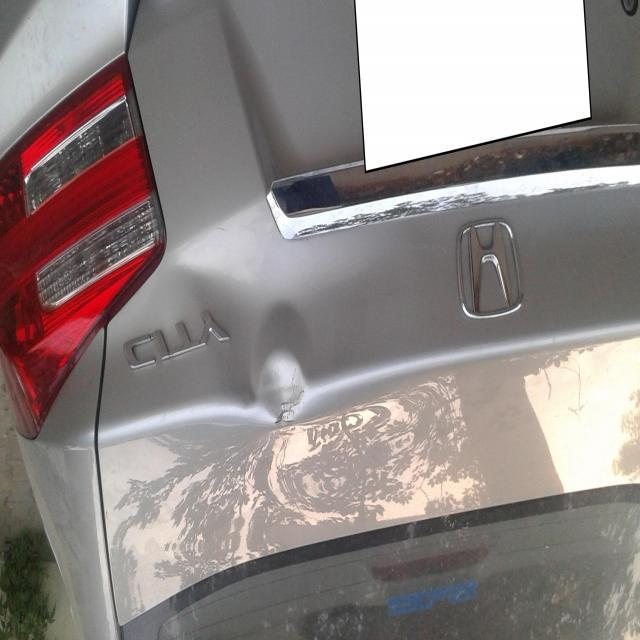dent: (220, 288, 344, 468)
